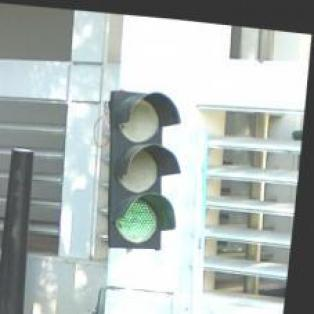Semaforo Verde: (98, 84, 191, 248)
